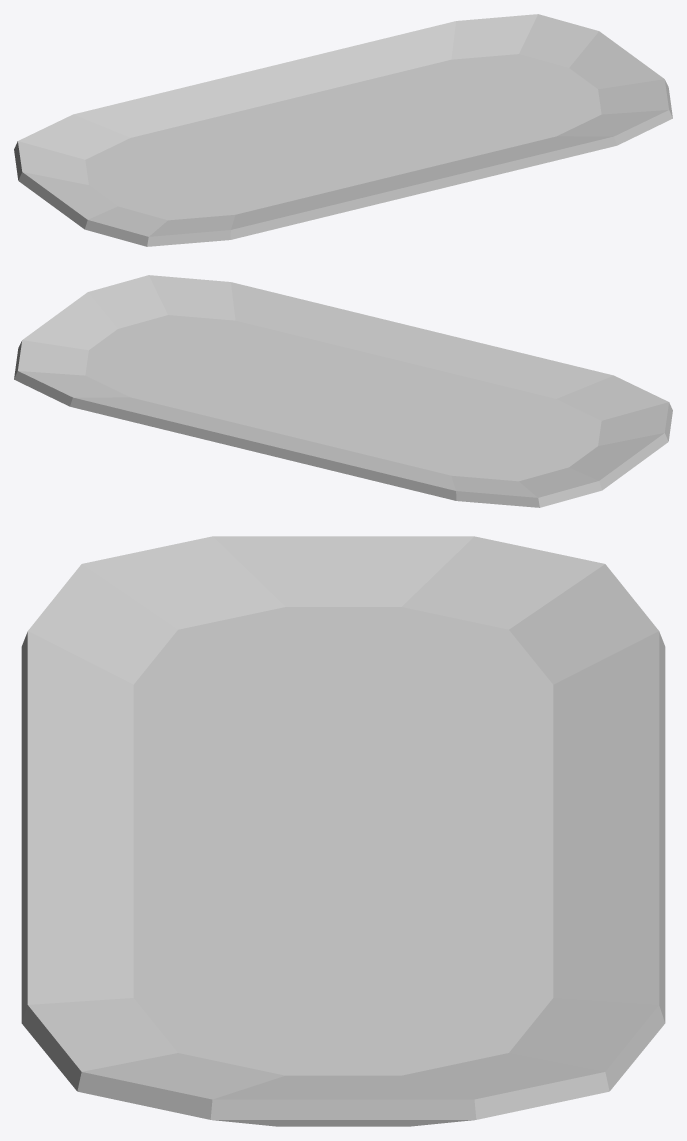
The model's file is tray_big.fbx.
3 views of the same model, one above another, from view 1: azimuth 30°, elevation 25°; view 2: azimuth 150°, elevation 25°; view 3: azimuth 270°, elevation 25° (orthographic). The views are drawn at different scales.
Visible parts, largest first — view 1: tray_big; view 2: tray_big; view 3: tray_big.
Boxes of the visible parts, bbox=[...] form: tray_big: bbox=[14, 14, 672, 246]; tray_big: bbox=[14, 275, 672, 507]; tray_big: bbox=[21, 536, 665, 1126].
Bounding box in the file's own units: 70.46 × 2.35 × 33.62.
